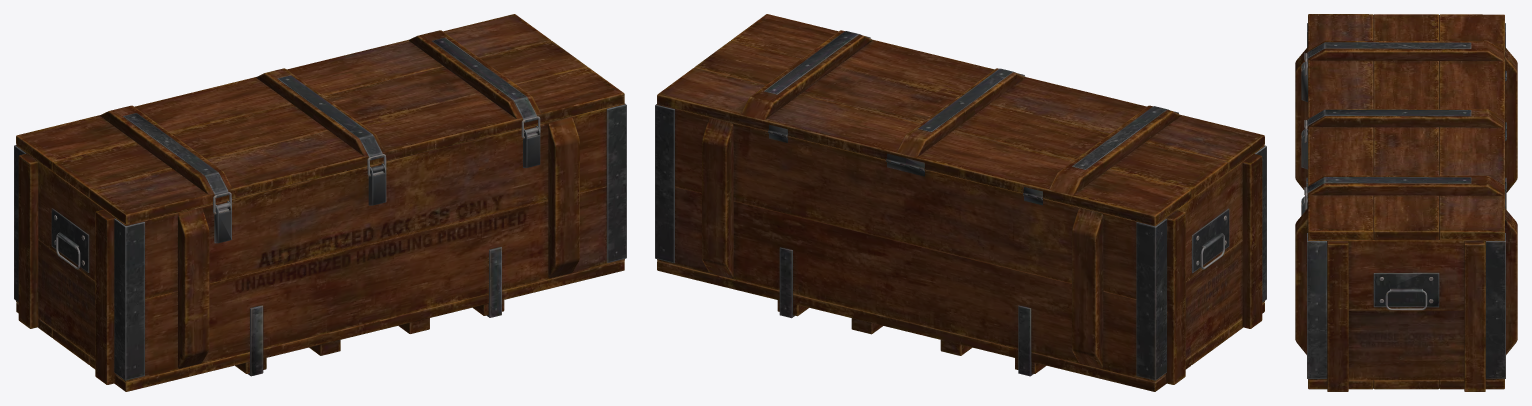
File: wooden_military_crate.glb
The picture shows the model from 3 angles, left to right: view 1: azimuth 30°, elevation 25°; view 2: azimuth 150°, elevation 25°; view 3: azimuth 270°, elevation 25°; orthographic projection. The views are drawn at different scales.
Parts seen in each view (by area): view 1: wooden_military_crate; view 2: wooden_military_crate; view 3: wooden_military_crate.
Part boxes in pixels (x1,y1,x2,y2): wooden_military_crate: (14, 14, 626, 391); wooden_military_crate: (655, 14, 1266, 391); wooden_military_crate: (1295, 14, 1517, 391).
Size of the model in its own units: 1.24 by 0.4648 by 0.5198.
Materials: 1 (1 with a texture image).
